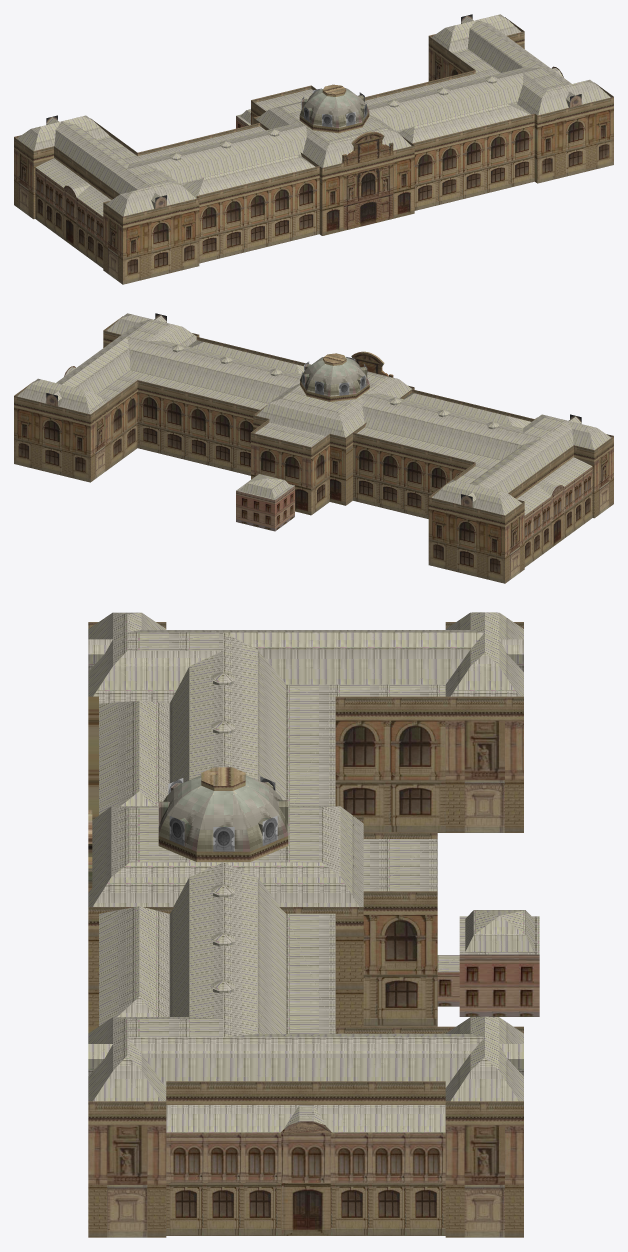
Rendered from Landmark_Netherlands.glb.
3 renders of one model, top to bottom at view 1: azimuth 30°, elevation 25°; view 2: azimuth 150°, elevation 25°; view 3: azimuth 270°, elevation 25°, orthographic. The views are drawn at different scales.
Visible parts, largest first — view 1: _(Loose Entity); view 2: _(Loose Entity); view 3: _(Loose Entity).
Part boxes in pixels (left/top/right/bottom): _(Loose Entity): left=14, top=14, right=613, bottom=284; _(Loose Entity): left=14, top=313, right=613, bottom=583; _(Loose Entity): left=88, top=612, right=539, bottom=1237.
Bounding box in the file's own units: 13.8 × 2.97 × 5.49.
19 materials, 18 textured.
